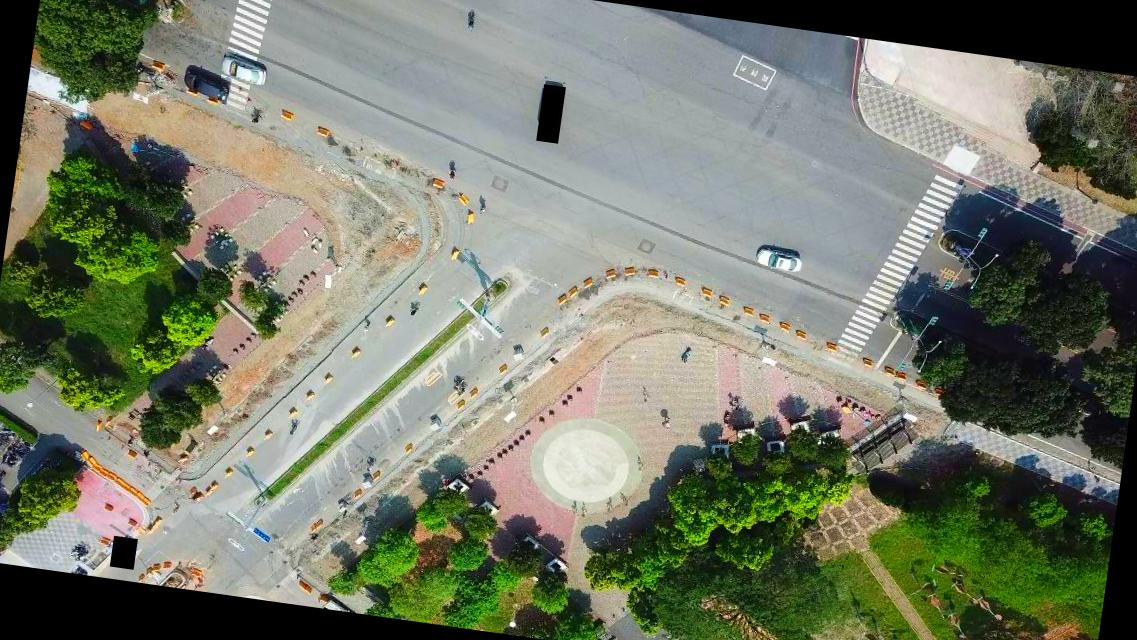vehicle: (218, 52, 269, 86), (183, 72, 230, 105), (754, 246, 804, 274)
